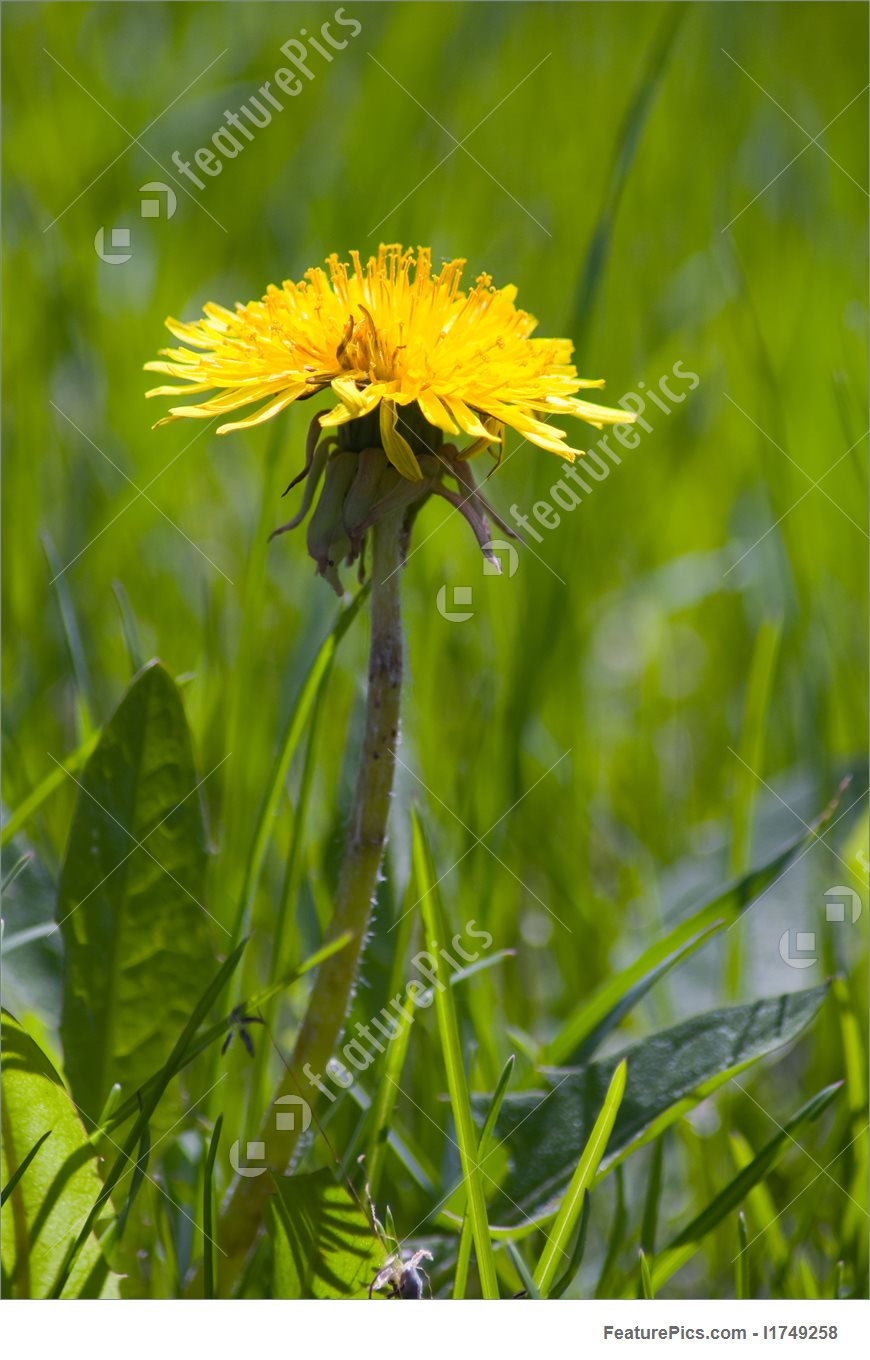dandelion: (155, 244, 632, 441)
